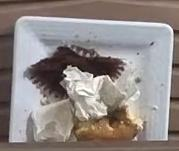donut: (73, 108, 138, 141)
